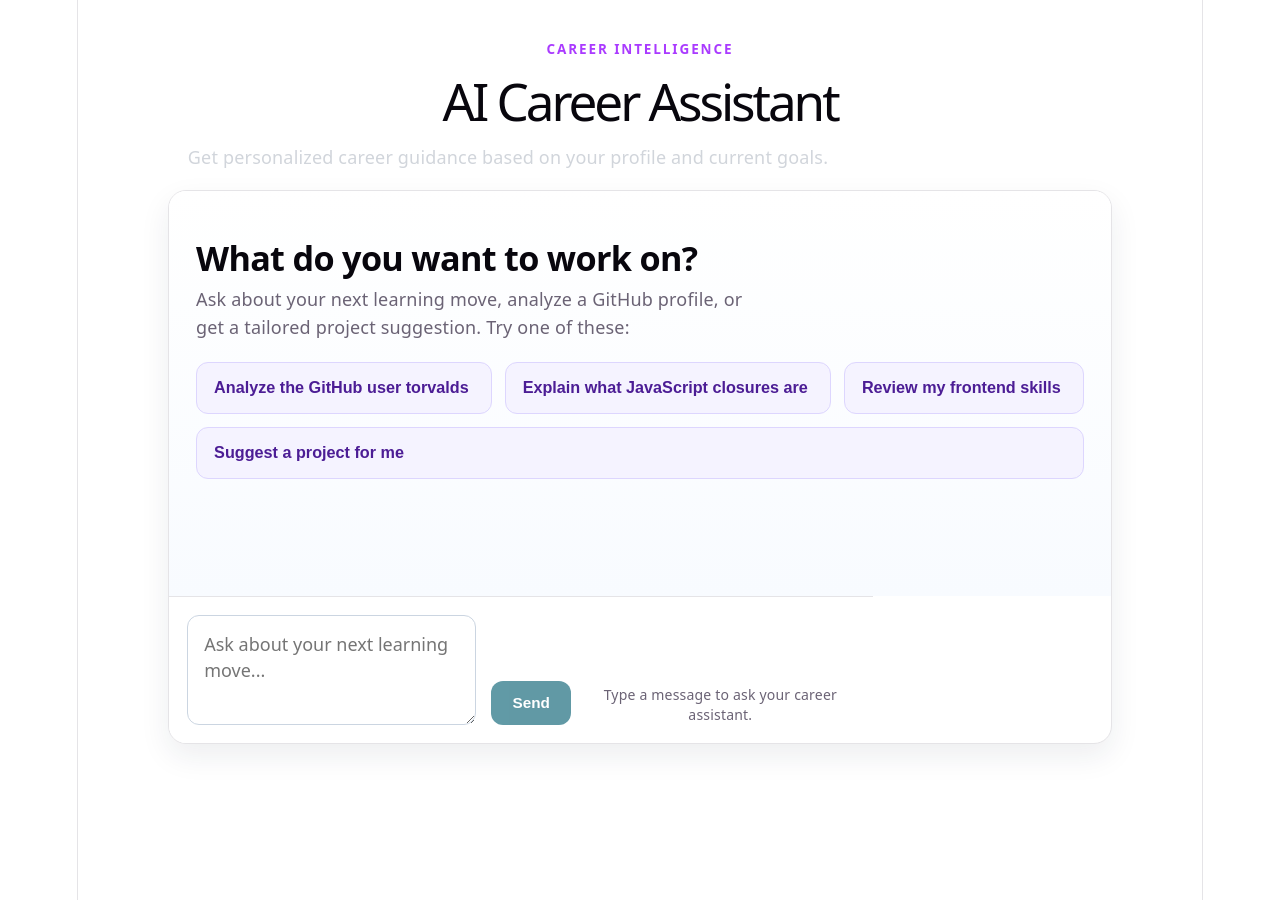
Scenario: AIChat — pending/streaming/error states › exposes a pending thinking state to assistive technology (Test 3)
Type "Hi" into the text box named "Message to AI Career Assistant" at (332, 670), box [187,615,476,725]
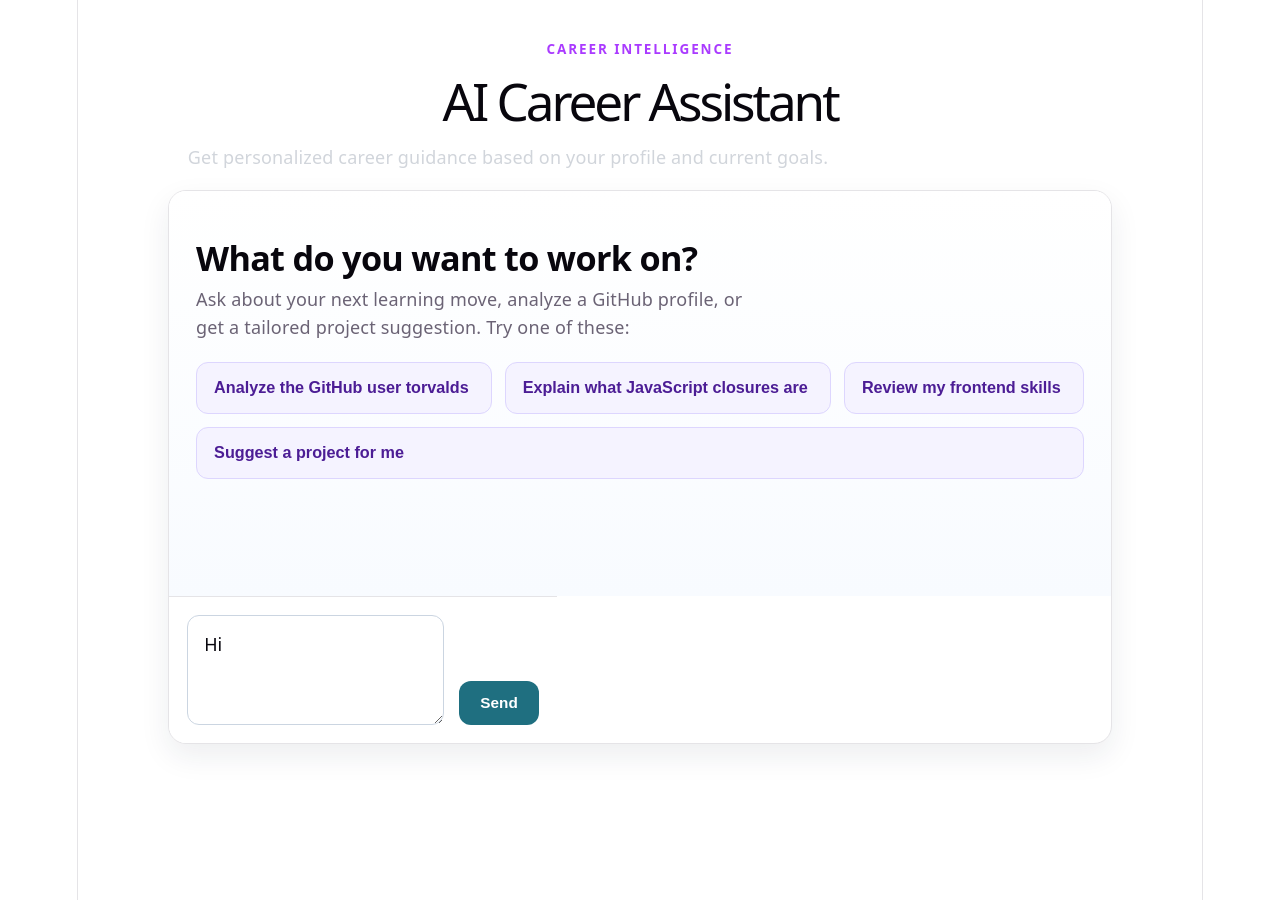
Click the button "Send" at (499, 703), box [459,681,539,725]
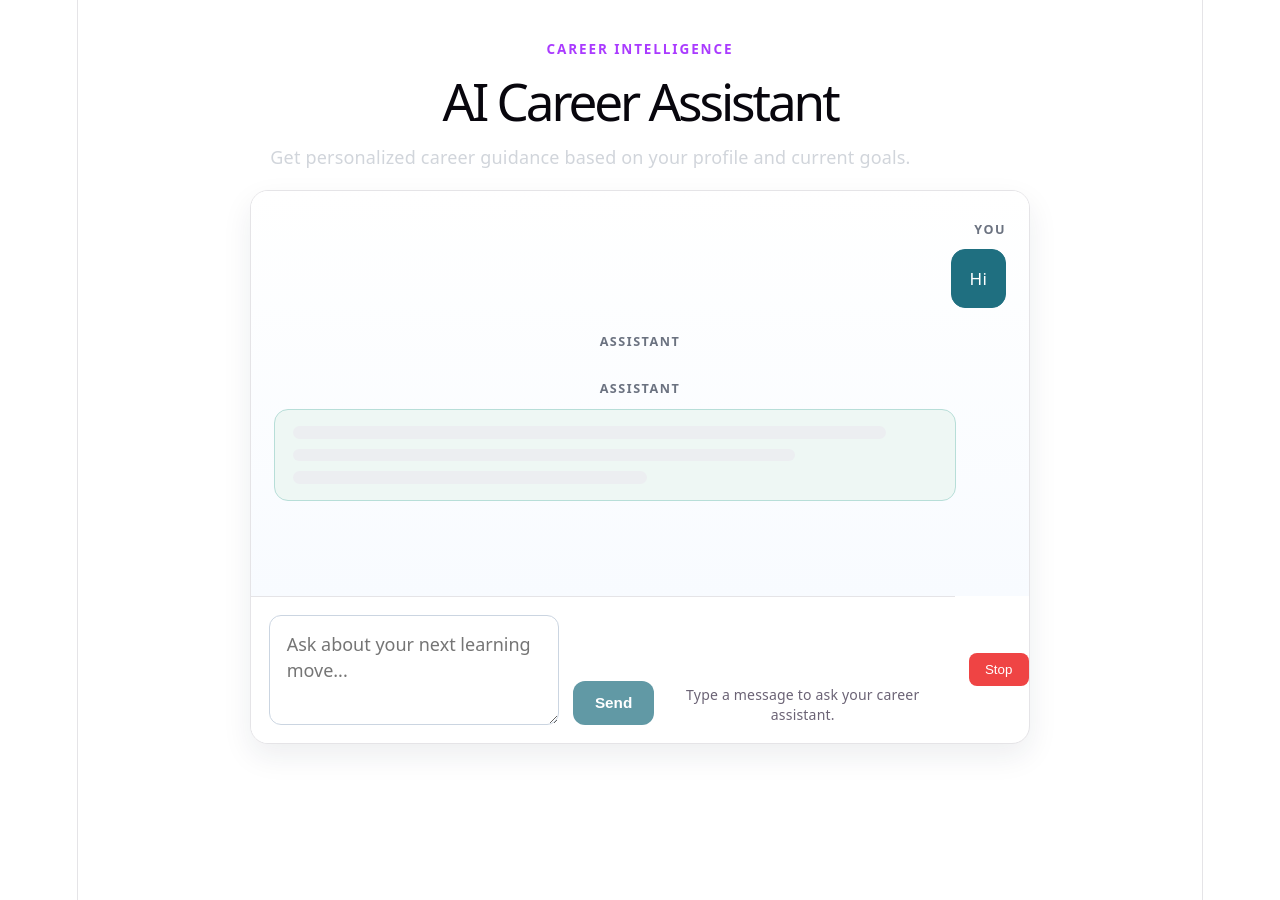
Check: the element named "Assistant message" is shown, box [600,333,680,350]
